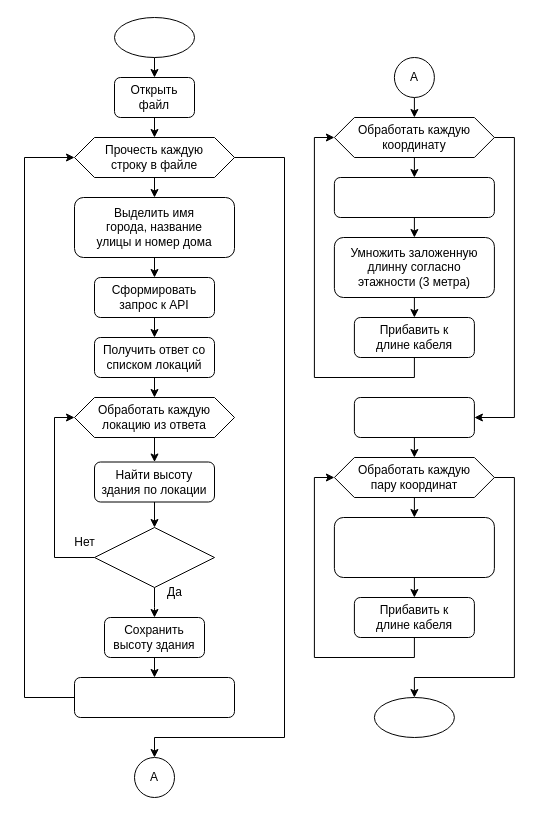
The diagram is 540 pixels wide and 815 high, and some of its shapes have lost their labels. The shapes that lost their labels are listed below. From the top down, each one's centre as x and y in pixels, then its label:
point (154, 37): Начало
point (413, 197): Заложить удвоенную высоту здания
point (413, 417): Сформировать пары координат
point (154, 557): Высота найдена?
point (413, 547): Рассчитать Манхэттенское расстояние между координатами пары
point (154, 697): Сохранить широту и долготу координаты
point (413, 717): Конец
